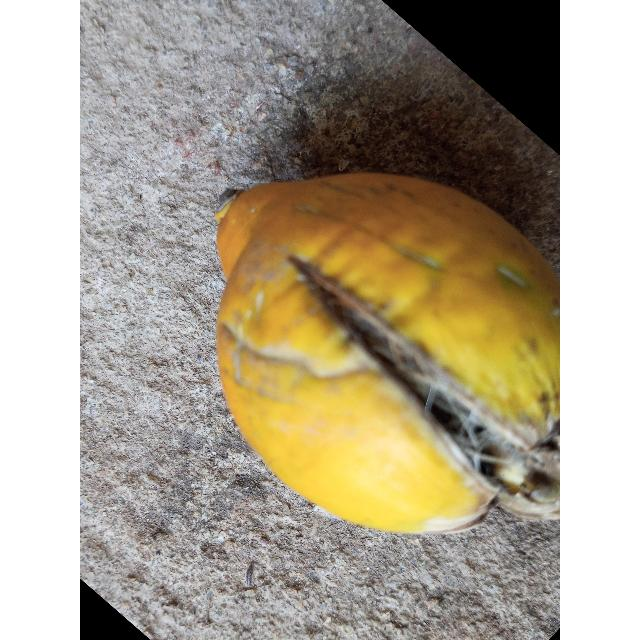damaged: (216, 172, 560, 537)
